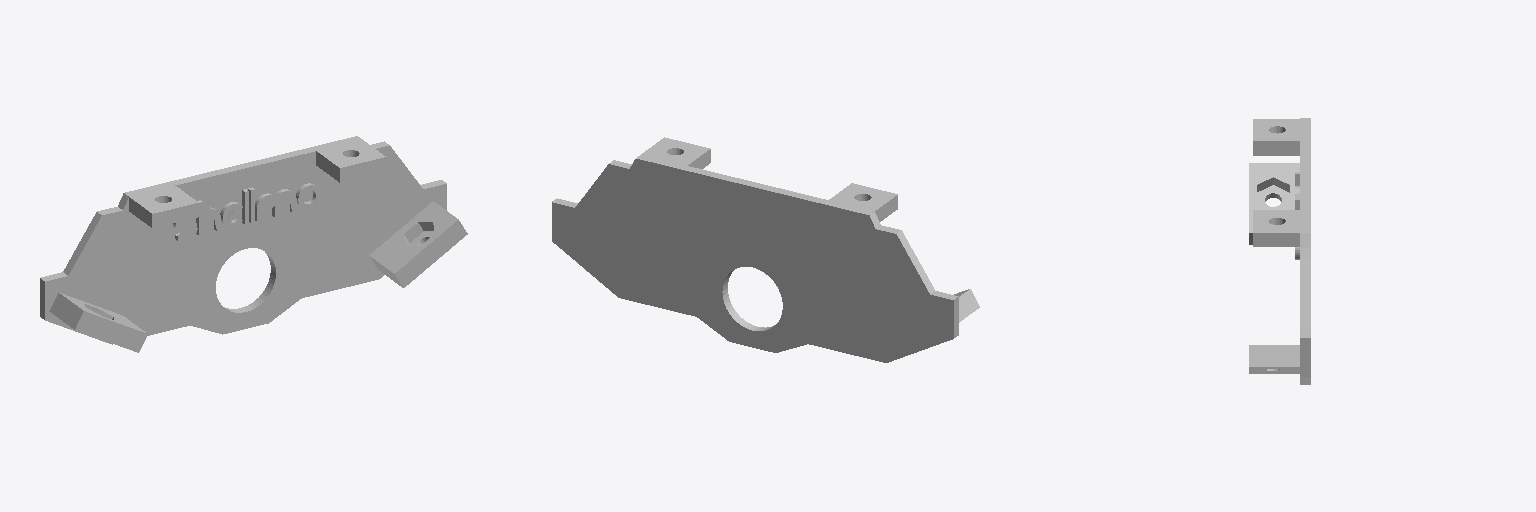
Rendered from RS_Head_v1.obj.
The picture shows the model from 3 angles: view 1: azimuth 30°, elevation 25°; view 2: azimuth 150°, elevation 25°; view 3: azimuth 270°, elevation 25°; orthographic projection.
Parts seen in each view (by area): view 1: Mesh2 Group3 Group1 Model, Mesh1 Group2 Group1 Model, Mesh3 Group4 Group1 Model, Mesh9 Shellmo1 Group1 Model; view 2: Mesh2 Group3 Group1 Model; view 3: Mesh2 Group3 Group1 Model, Mesh3 Group4 Group1 Model, Mesh1 Group2 Group1 Model.
Boxes of the visible parts, box(x1,y1,x2,y2) form: Mesh2 Group3 Group1 Model: box(40, 136, 446, 344); Mesh1 Group2 Group1 Model: box(369, 201, 467, 287); Mesh3 Group4 Group1 Model: box(49, 293, 147, 352); Mesh9 Shellmo1 Group1 Model: box(255, 189, 296, 220); Mesh2 Group3 Group1 Model: box(552, 137, 958, 362); Mesh2 Group3 Group1 Model: box(1253, 118, 1310, 384); Mesh3 Group4 Group1 Model: box(1249, 163, 1299, 244); Mesh1 Group2 Group1 Model: box(1249, 345, 1299, 373).
Size of the model in its own units: 86.66 by 33.1 by 11.5.